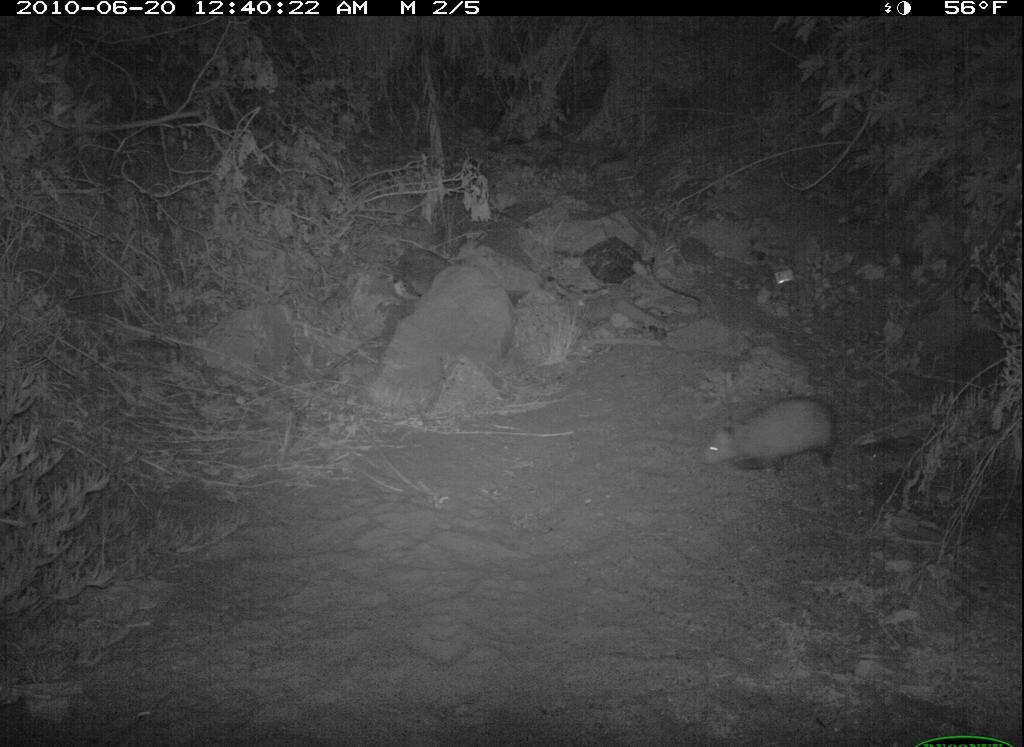opossum: (693, 390, 867, 486)
